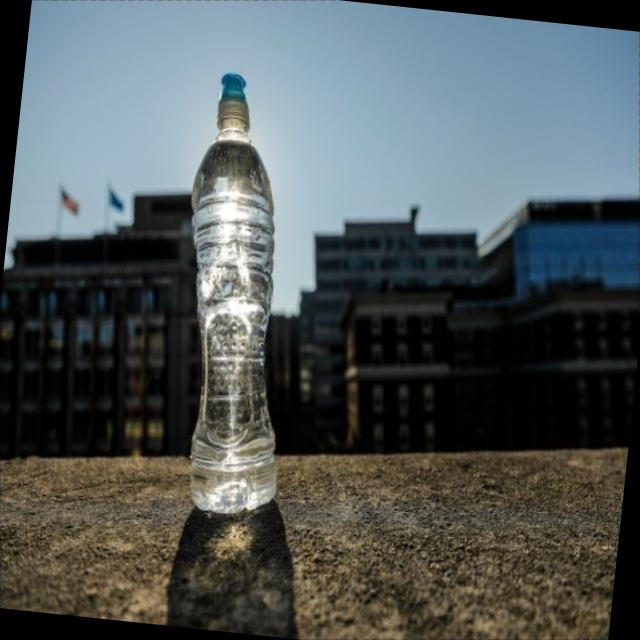Plastic-bottle: (180, 60, 287, 527)
